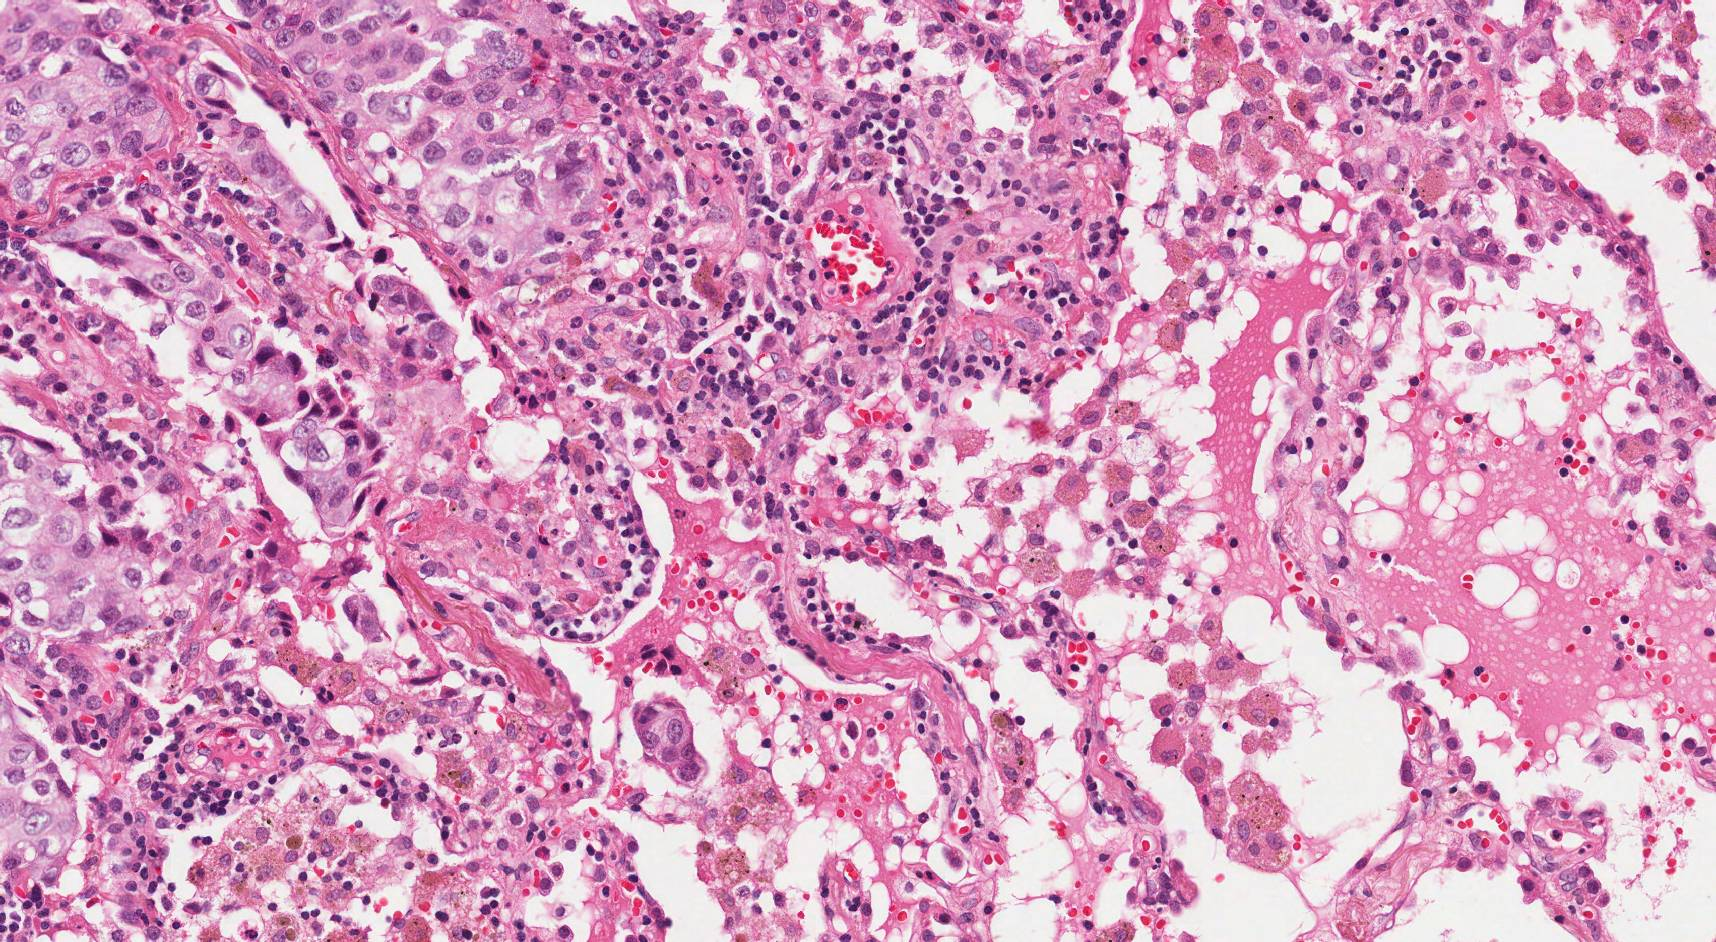stas: (629, 693, 710, 790)
